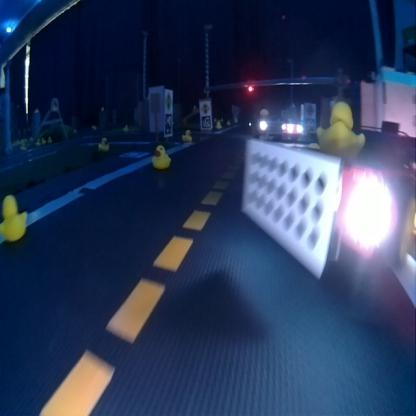Duckie: (316, 103, 364, 155), (1, 194, 26, 241), (152, 144, 171, 168), (98, 138, 110, 152), (180, 129, 192, 141)
Duckiebot: (243, 138, 403, 282)
QR code: (164, 115, 172, 134), (201, 116, 211, 128)
Signal sign: (200, 102, 210, 115), (165, 93, 170, 111)
Traffic light: (245, 82, 254, 94)
